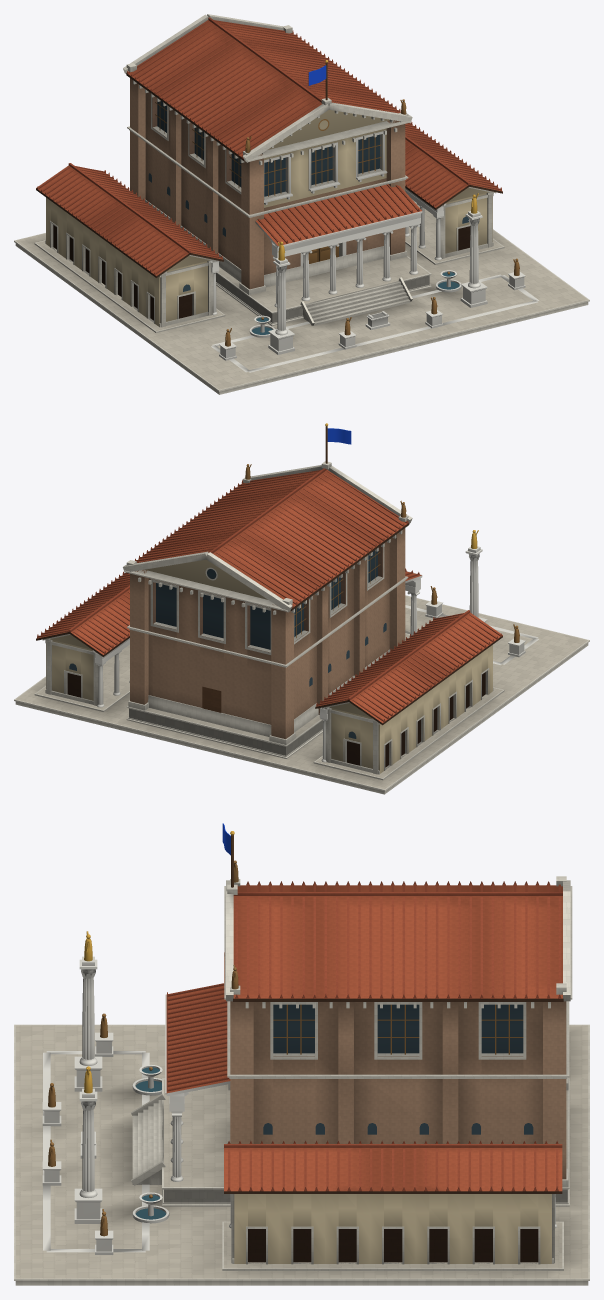
The model's file is lm_senato.glb.
The picture shows the model from 3 angles, top to bottom: view 1: azimuth 30°, elevation 25°; view 2: azimuth 150°, elevation 25°; view 3: azimuth 270°, elevation 25°; orthographic projection. The views are drawn at different scales.
Visible parts, largest first — view 1: lm_senato; view 2: lm_senato; view 3: lm_senato.
Part boxes in pixels (x1=…): lm_senato: x1=14, y1=14, x2=589, y2=394; lm_senato: x1=14, y1=423, x2=589, y2=794; lm_senato: x1=14, y1=823, x2=589, y2=1285.
Bounding box in the file's own units: 2.31 × 1.39 × 2.21.
Materials: 1 (1 with a texture image).
